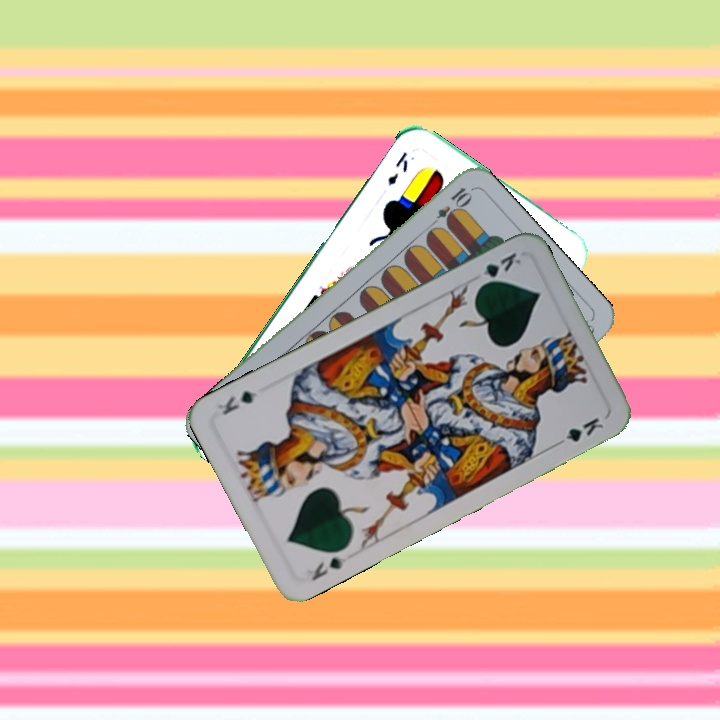E10: (425, 183, 474, 232)
EK: (383, 148, 411, 188)
GK: (474, 248, 524, 290), (307, 553, 349, 584)
